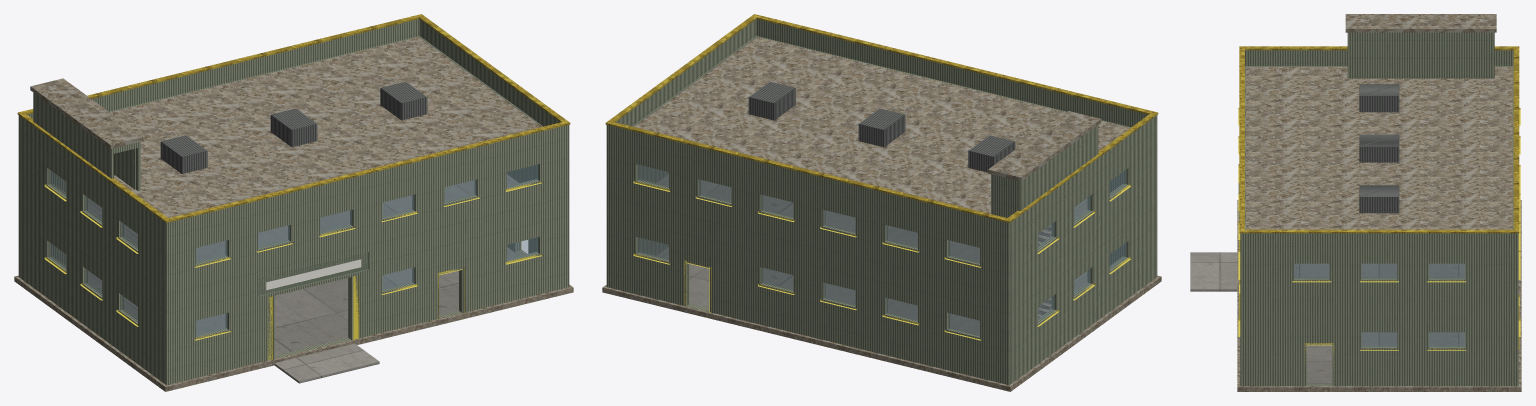
The model's file is mb-armory.zfix-v20.lod0.glb.
3 renders of one model, left to right at view 1: azimuth 30°, elevation 25°; view 2: azimuth 150°, elevation 25°; view 3: azimuth 270°, elevation 25°, orthographic. The views are drawn at different scales.
Parts seen in each view (by area): view 1: mb-armory; view 2: mb-armory; view 3: mb-armory.
Part boxes in pixels (x1=…): mb-armory: x1=14, y1=14, x2=573, y2=391; mb-armory: x1=602, y1=14, x2=1161, y2=391; mb-armory: x1=1190, y1=14, x2=1521, y2=391.
Bounding box in the file's own units: 22.3 × 10.67 × 16.65.
5 materials, 3 textured.
